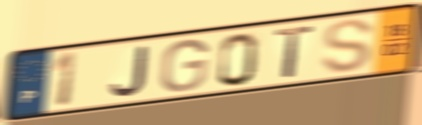0: (216, 30, 262, 88)
1: (50, 49, 78, 111)
G: (157, 37, 211, 94)
J: (108, 44, 149, 99)
S: (319, 17, 376, 75)
T: (273, 23, 316, 80)
